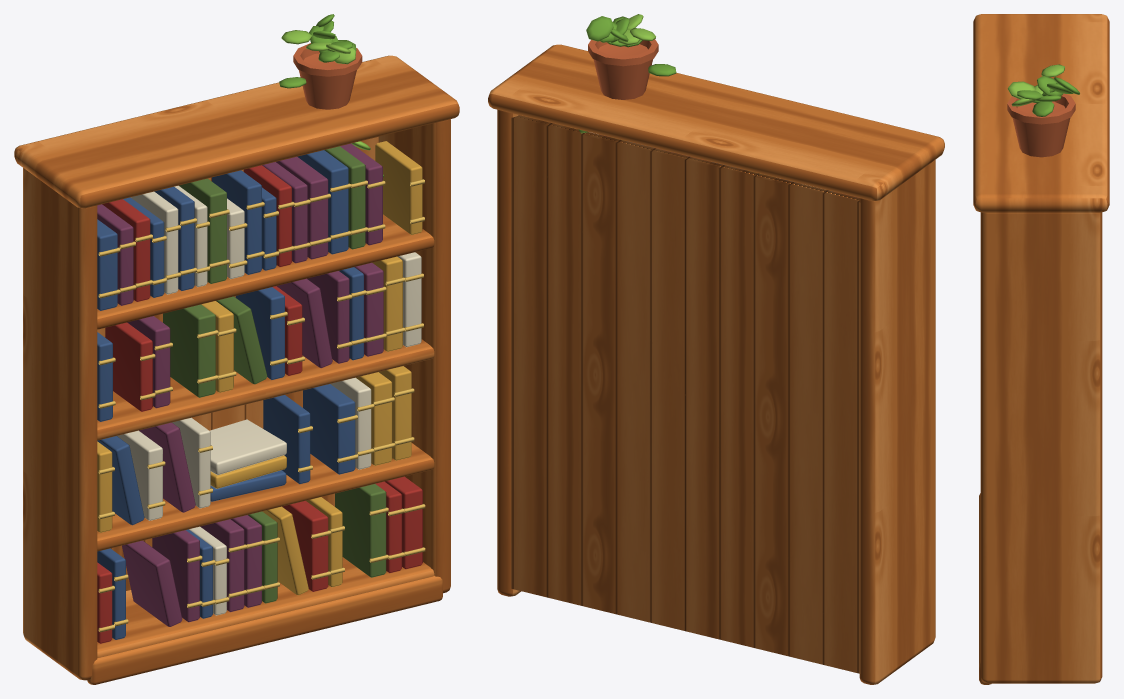
Rendered from bookshelf.glb.
3 renders of one model, left to right at view 1: azimuth 30°, elevation 25°; view 2: azimuth 150°, elevation 25°; view 3: azimuth 270°, elevation 25°, orthographic. The views are drawn at different scales.
Visible parts, largest first — view 1: model; view 2: model; view 3: model.
Part boxes in pixels (<box>): model: <box>14,14,459,684</box>; model: <box>488,14,944,684</box>; model: <box>973,14,1109,684</box>.
Size of the model in its own units: 1.52 by 2.18 by 0.47.
12 materials, 2 textured.
